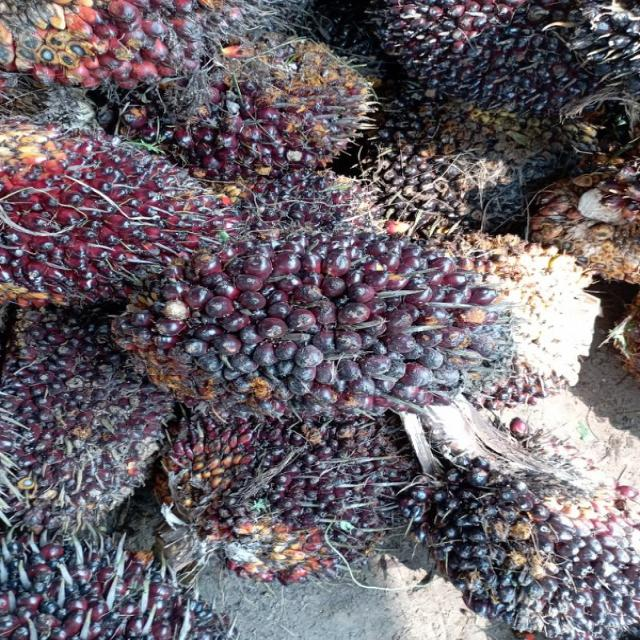fraksi 00: (128, 214, 614, 413), (407, 413, 639, 640), (174, 402, 382, 577), (8, 316, 158, 542)
fraksi 1: (0, 116, 232, 314), (180, 16, 394, 172)
